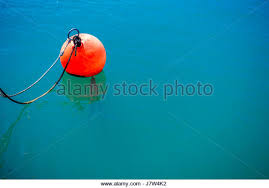buoy: (60, 33, 106, 77)
